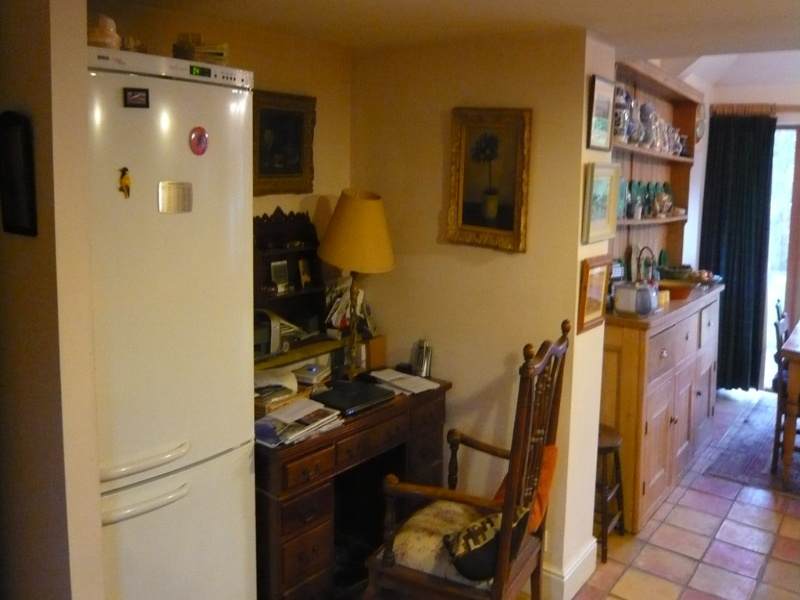chair: (386, 316, 573, 600)
laptop: (311, 378, 396, 413)
refrigerator: (86, 38, 266, 599)
